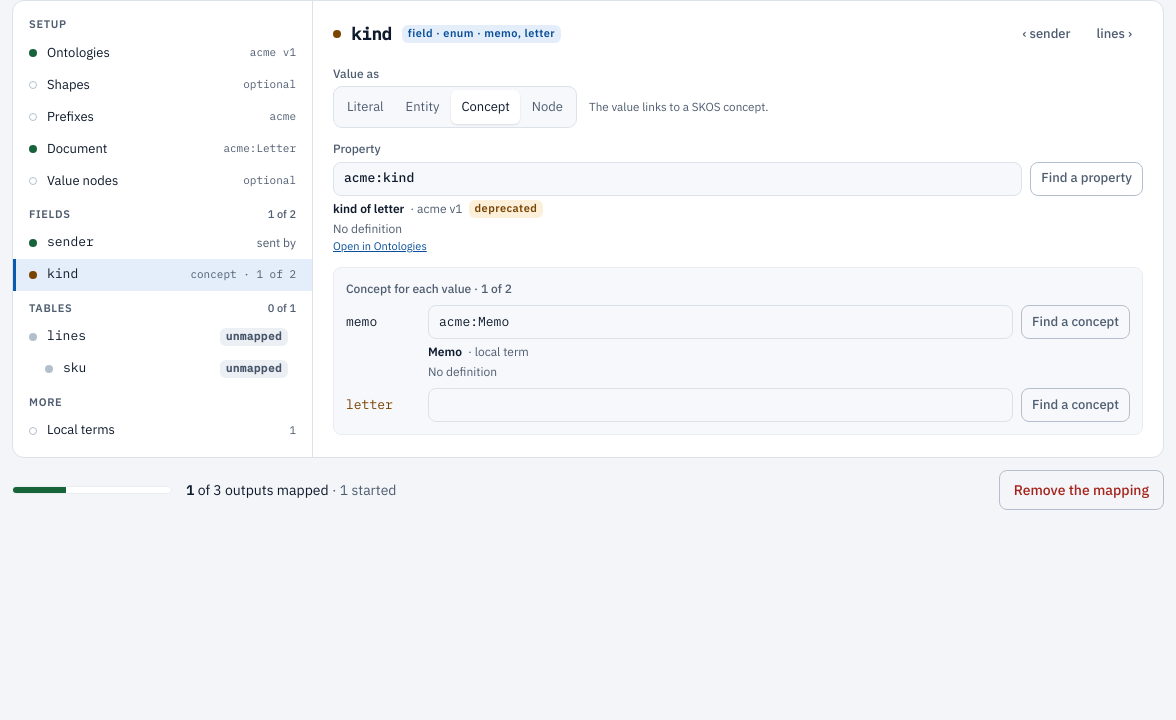
it: MappingEditor term labels › shows each term by its name in the outline and under its field
The width and height of the screenshot is (1176, 720).
Expected: the text "kind of letter" is shown, [333,200,404,217]
Expected: the text "deprecated" is shown, [468,200,543,218]
Click the button "sender sent by" at (70, 242), box [13,227,312,259]
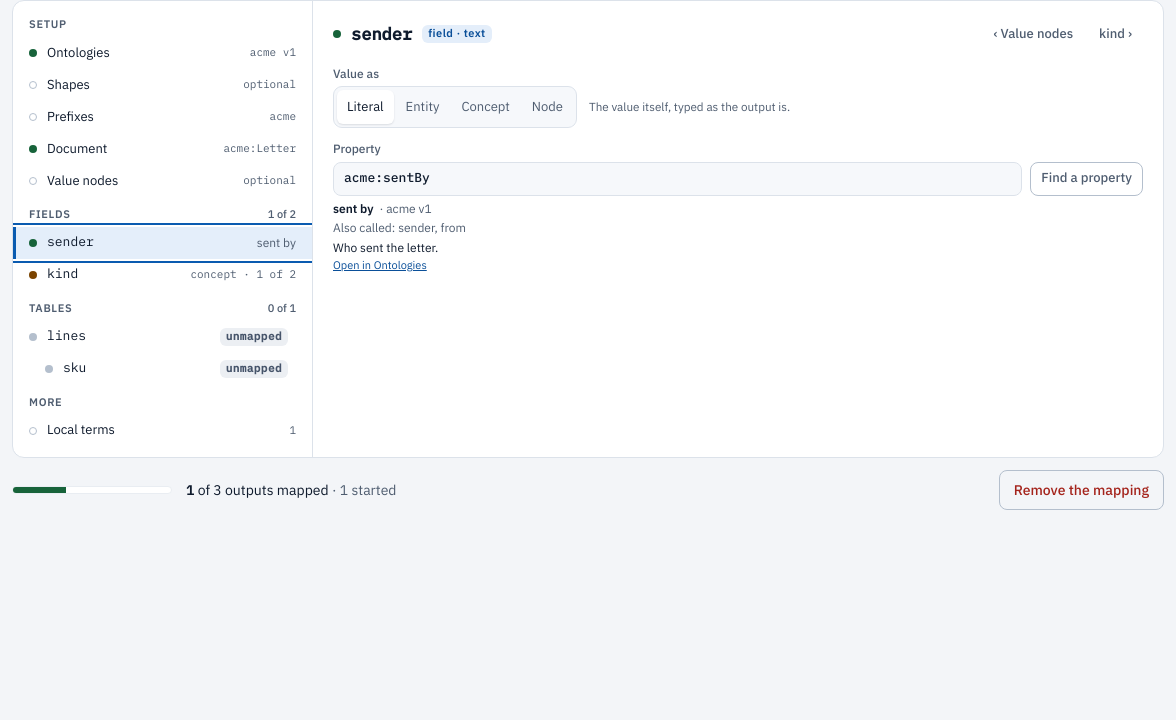
Expected: the text "Also called: sender, from" is shown, [333,220,466,235]
Expected: the text "Who sent the letter." is shown, [333,240,438,255]
Click the button "Document acme:Letter" at (77, 148), box [13,133,312,165]
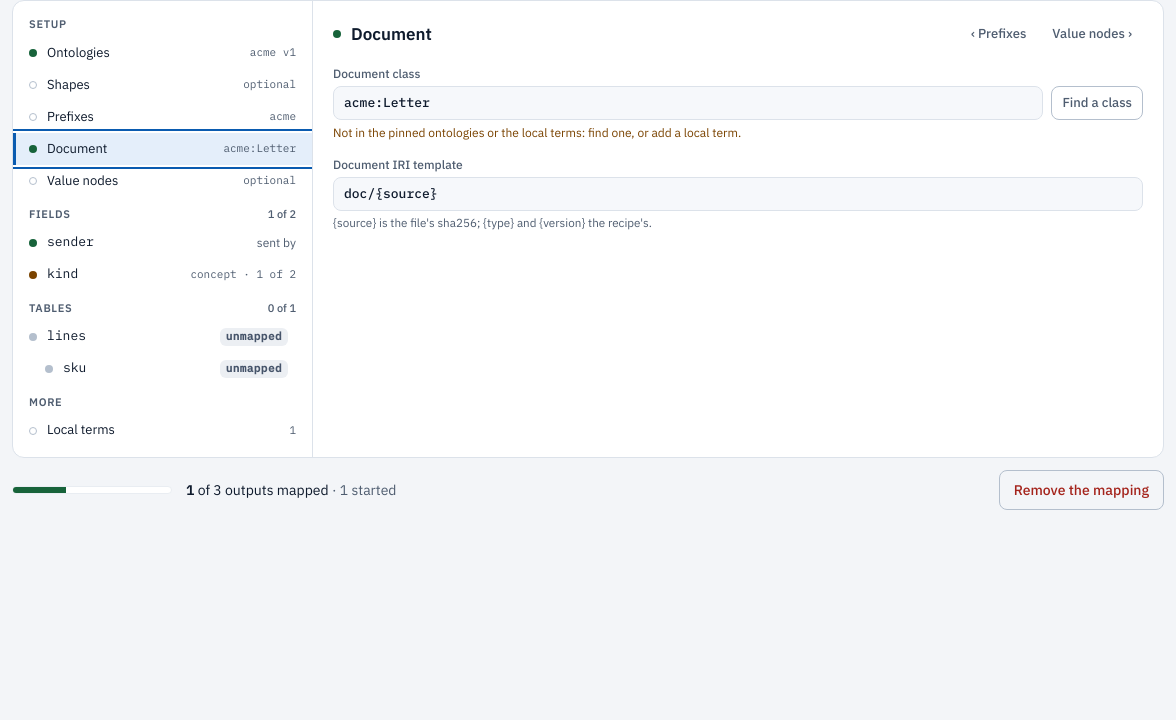
Expected: the text "Not in the pinned ontologies or the local terms" is shown, [333,125,741,140]
